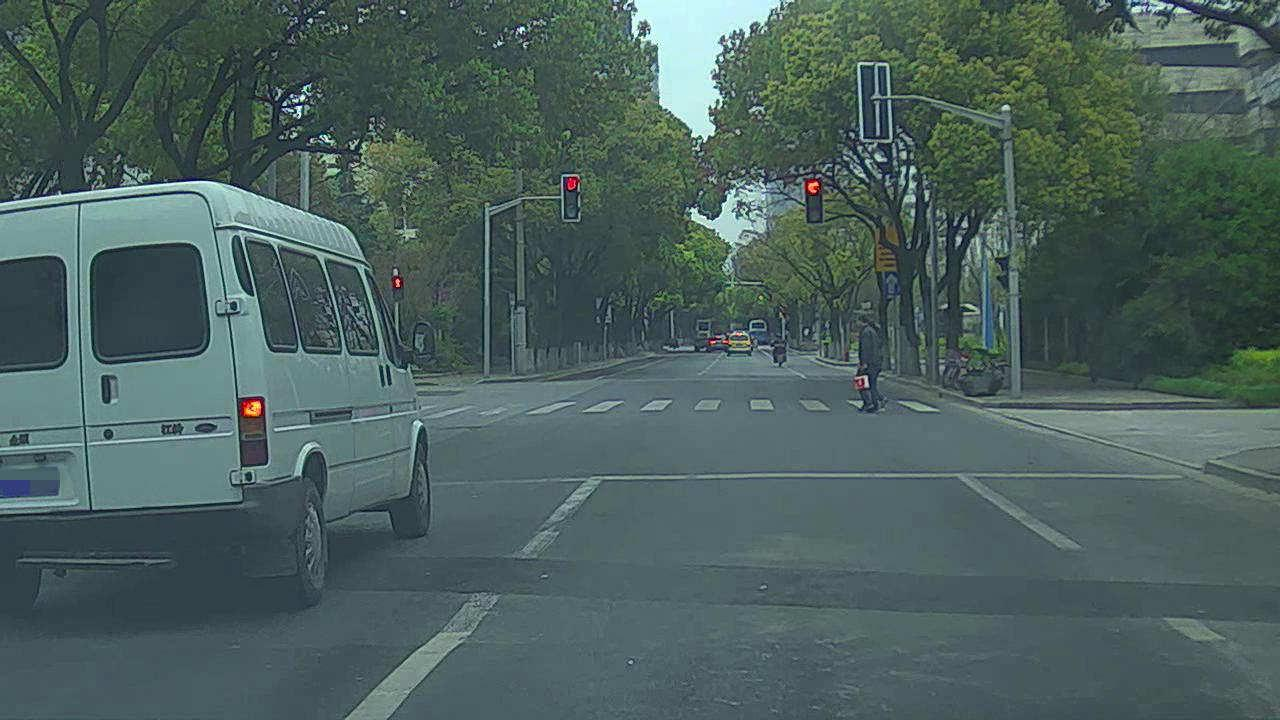traffic_light: (562, 173, 582, 223), (805, 175, 825, 219)
